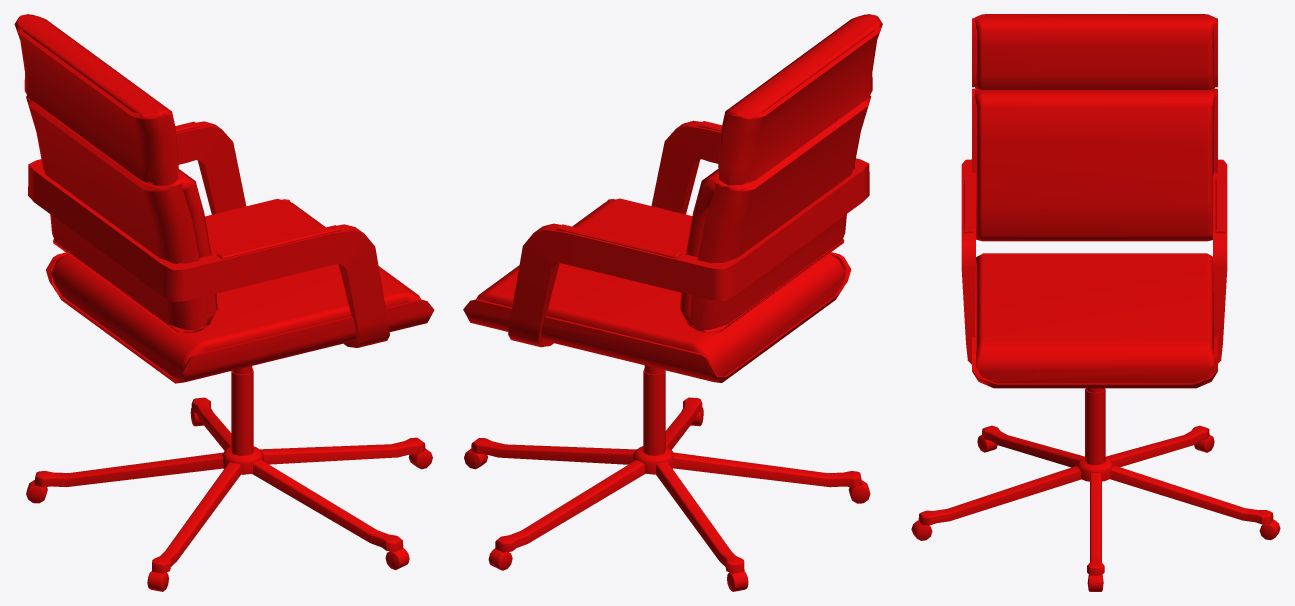
The model's file is boardRoom_Chair_02.fbx.
3 renders of one model, left to right at view 1: azimuth 30°, elevation 25°; view 2: azimuth 150°, elevation 25°; view 3: azimuth 270°, elevation 25°, orthographic. The views are drawn at different scales.
Visible parts, largest first — view 1: seat_chair_optimised, legs_Chair_optimised; view 2: seat_chair_optimised, legs_Chair_optimised; view 3: seat_chair_optimised, legs_Chair_optimised.
Boxes of the visible parts, <box> form: seat_chair_optimised: <box>14,14,434,383</box>; legs_Chair_optimised: <box>26,366,432,591</box>; seat_chair_optimised: <box>463,14,882,382</box>; legs_Chair_optimised: <box>464,365,870,591</box>; seat_chair_optimised: <box>961,14,1227,388</box>; legs_Chair_optimised: <box>911,388,1280,591</box>.
Bounding box in the file's own units: 3.89 × 5.05 × 3.93.
